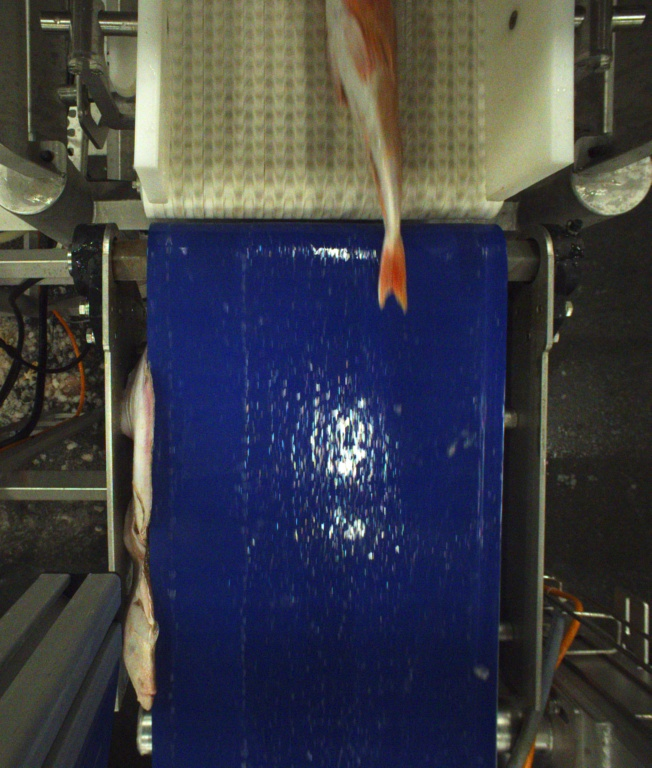GUU: (323, 0, 409, 316)
